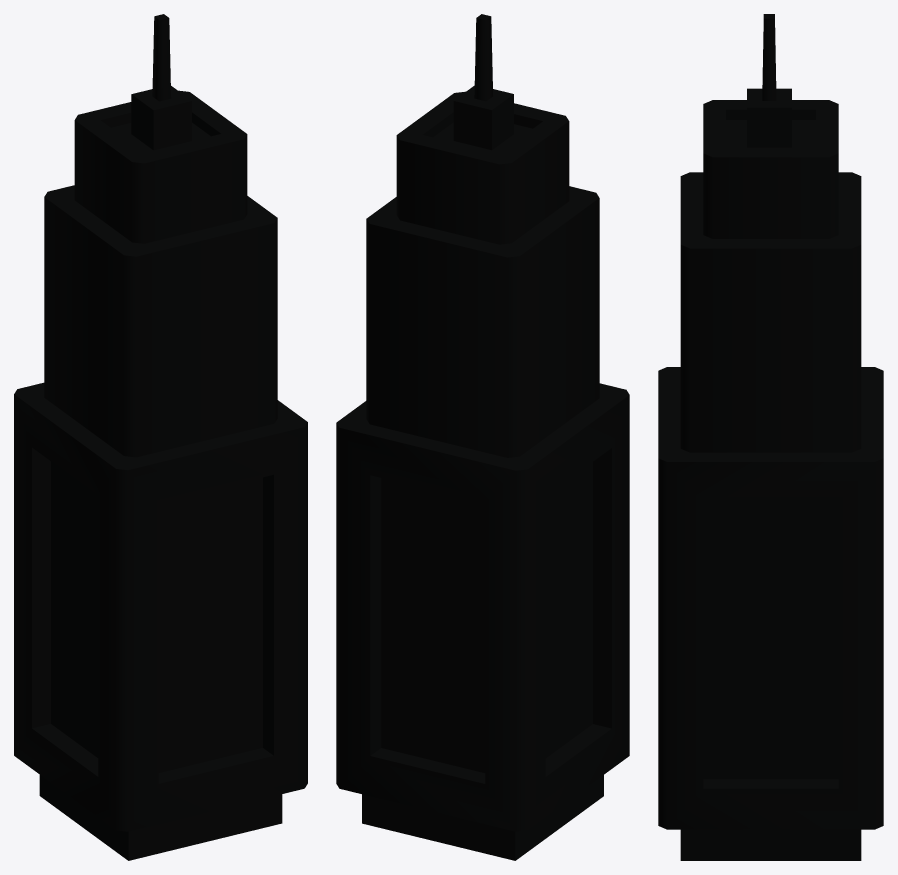
Rendered from low-detail-building-m.glb.
3 renders of one model, left to right at view 1: azimuth 30°, elevation 25°; view 2: azimuth 150°, elevation 25°; view 3: azimuth 270°, elevation 25°, orthographic.
Parts seen in each view (by area): view 1: low-detail-building-m; view 2: low-detail-building-m; view 3: low-detail-building-m.
Boxes of the visible parts, <box> form: low-detail-building-m: <box>14,14,307,860</box>; low-detail-building-m: <box>336,14,629,860</box>; low-detail-building-m: <box>658,14,883,860</box>.
Bounding box in the file's own units: 0.4999 × 1.98 × 0.4999.
Materials: 1 (1 with a texture image).
